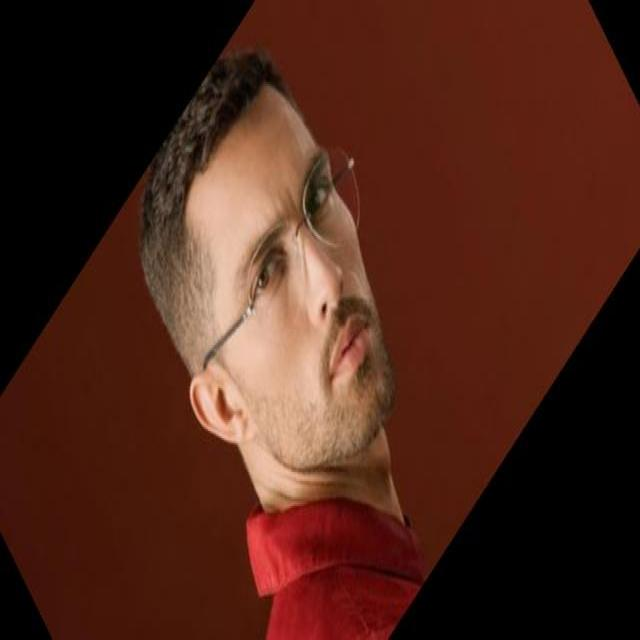glasses: (220, 120, 374, 382)
